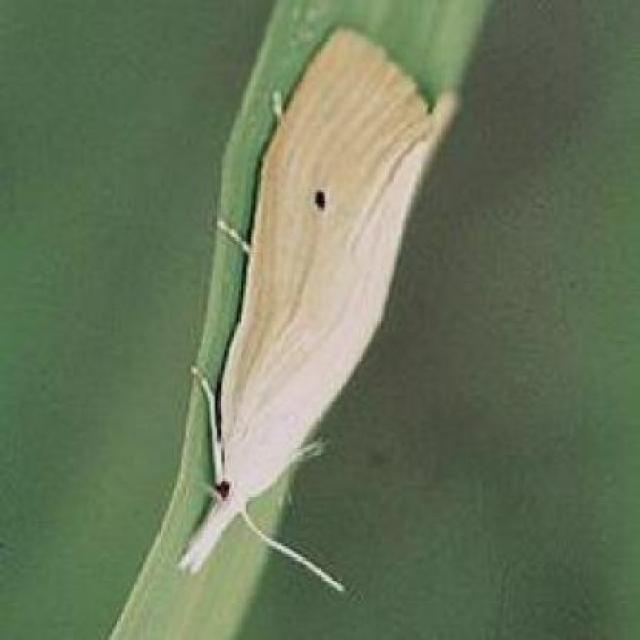stem-borer: (174, 21, 463, 594)
